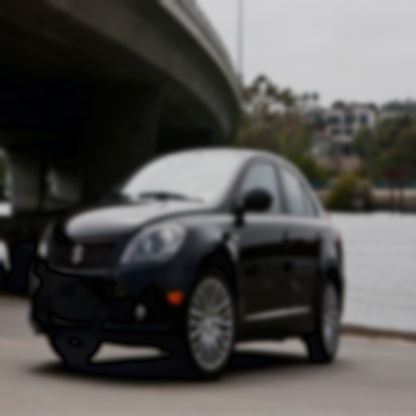Vehicle: (27, 146, 347, 380)
